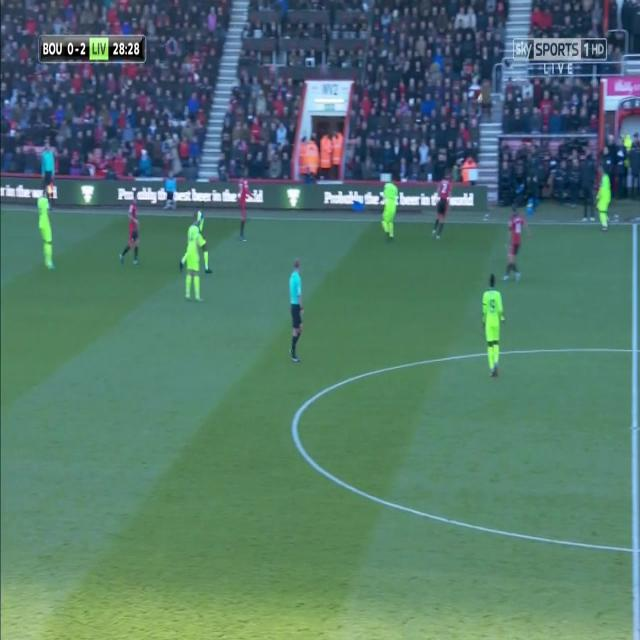Player: (480, 274, 505, 379), (502, 205, 528, 287), (117, 189, 142, 264), (430, 171, 453, 243), (182, 215, 200, 304), (36, 191, 54, 274), (234, 180, 254, 247), (378, 176, 398, 241), (595, 169, 613, 233)
Referee: (288, 256, 306, 364), (40, 132, 56, 196)
